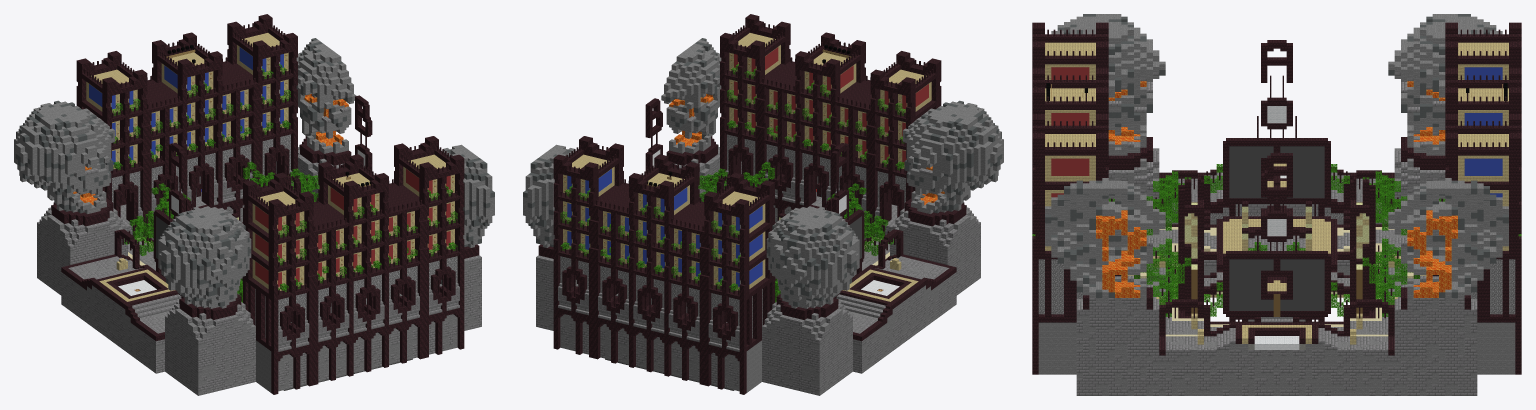
Rendered from minecraft.obj.
The picture shows the model from 3 angles, left to right: view 1: azimuth 30°, elevation 25°; view 2: azimuth 150°, elevation 25°; view 3: azimuth 270°, elevation 25°; orthographic projection. The views are drawn at different scales.
Size of the model in its own units: 70 by 45 by 77.
